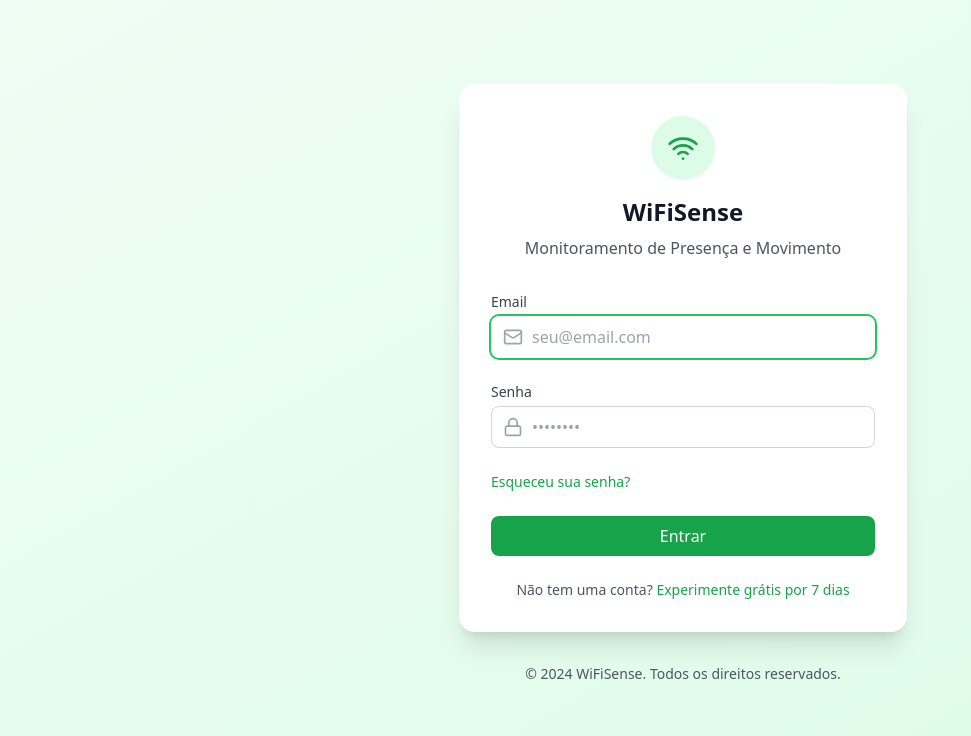
Scenario: LoginPage › deve exibir erro quando campos estão vazios
The width and height of the screenshot is (971, 736).
Click the button "Entrar" at (683, 536), box left=491, top=516, right=875, bottom=556
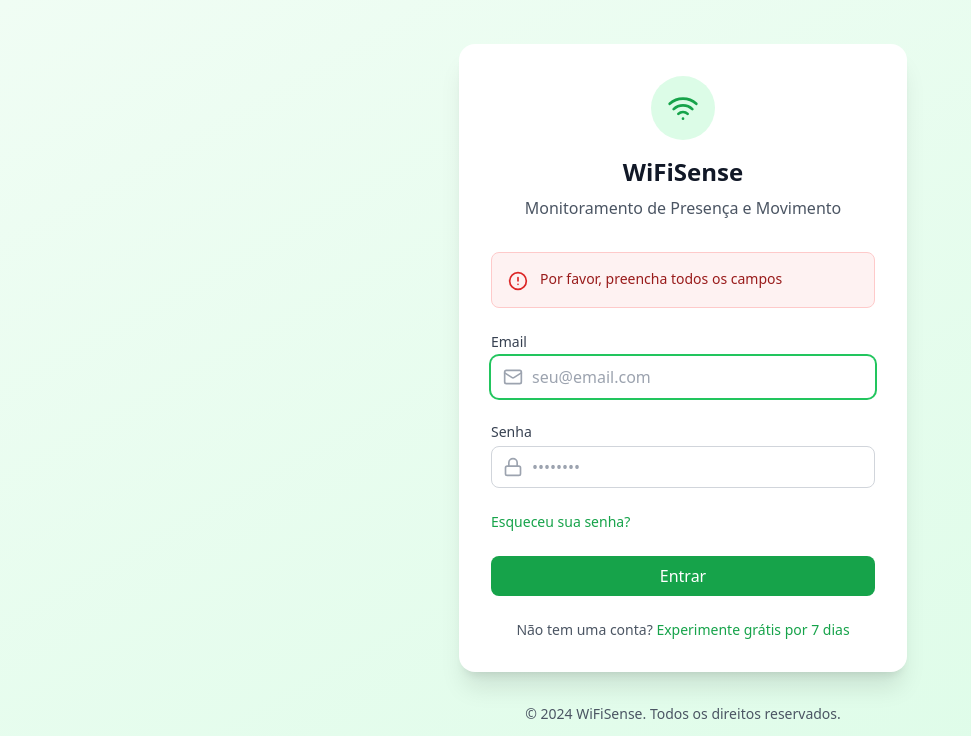
Now the text "Por favor, preencha todos os campos" is shown, box left=540, top=269, right=782, bottom=289
